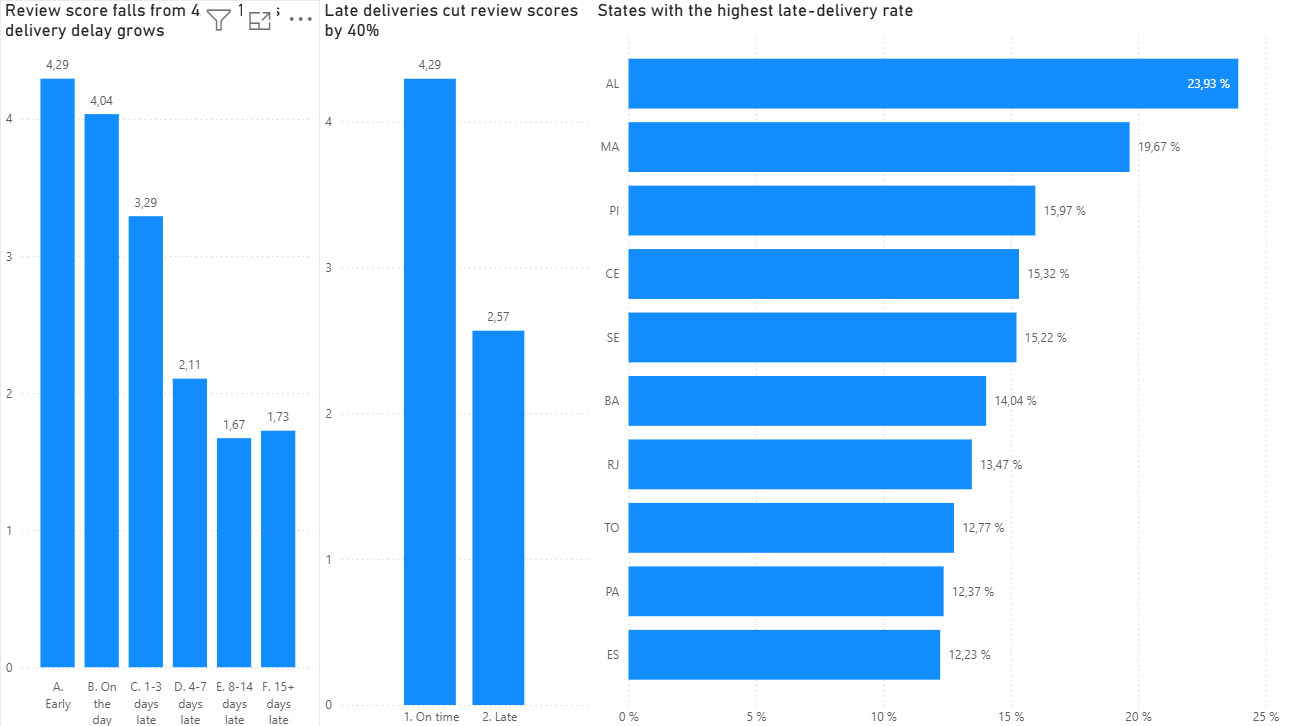

This screenshot's page, from the dashboard's own definition file:
{"tool":"powerbi","page":{"name":"Delivery performance & customer satisfaction","canvas":[1280,720],"ordinal":1},"visuals":[{"type":"clusteredColumnChart","title":"Late deliveries cut review scores by 40%","fields":{"Y":["fact_sales.Avg Review Score"],"Category":["fact_sales.Delivery Status"]},"box":[312.5,0,268.8,720.8],"z":0},{"type":"clusteredBarChart","title":"States with the highest late-delivery rate","fields":{"Y":["fact_sales.Late Delivery %"],"Category":["fact_sales.customer_state"]},"box":[581.2,0,697.9,720.8],"z":1000},{"type":"clusteredColumnChart","title":"Review score falls from 4.3 to 1.7 as delivery delay grows","fields":{"Category":["fact_sales.Delay Bucket"],"Y":["fact_sales.Avg Review Score"]},"box":[0,0,312.5,720.8],"z":2000}]}

Visuals, with their boxes in screenshot pixels (x1, y1, x2, y2), scaled from the page's 1280x720 canvas onto the 1303x726 screenshot:
"Late deliveries cut review scores by 40%" clusteredColumnChart: box(318, 0, 592, 725)
"States with the highest late-delivery rate" clusteredBarChart: box(592, 0, 1302, 725)
"Review score falls from 4.3 to 1.7 as delivery delay grows" clusteredColumnChart: box(0, 0, 318, 725)
